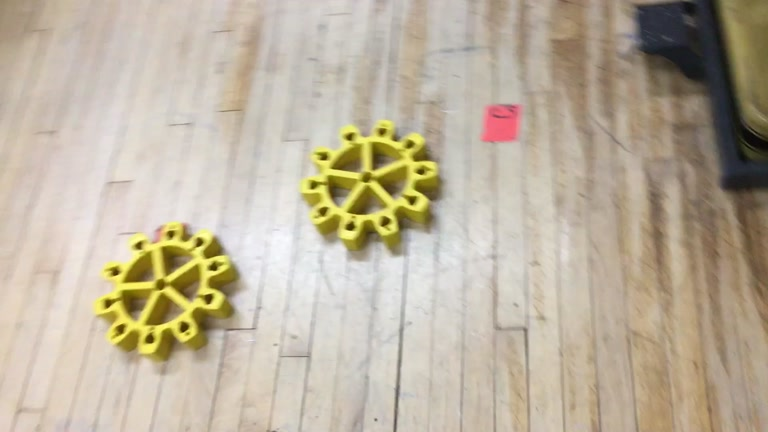gear: (92, 221, 240, 363), (300, 120, 437, 252)
